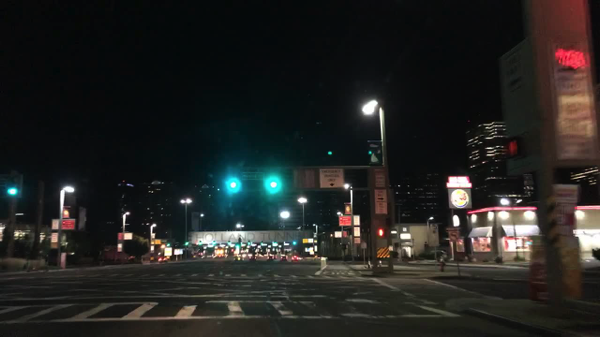car: (156, 257, 167, 262), (234, 255, 243, 261), (292, 255, 299, 262), (248, 255, 256, 261), (279, 256, 288, 261), (266, 255, 273, 261)
traffic light: (263, 173, 280, 194), (374, 189, 388, 213), (5, 177, 18, 198), (227, 176, 240, 194), (241, 171, 265, 179), (374, 173, 384, 186), (376, 228, 387, 238), (235, 242, 241, 249), (184, 242, 190, 248), (291, 240, 296, 247), (226, 239, 230, 247), (327, 150, 332, 156), (259, 241, 263, 247), (272, 242, 276, 248), (166, 242, 170, 248), (198, 241, 202, 246), (247, 241, 252, 245), (212, 240, 215, 246)
traffic sign: (319, 169, 345, 187), (294, 169, 314, 187)
